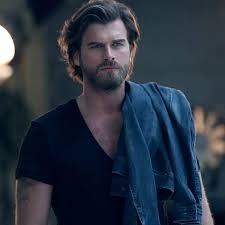middle_eastern_male: (67, 4, 141, 95)
